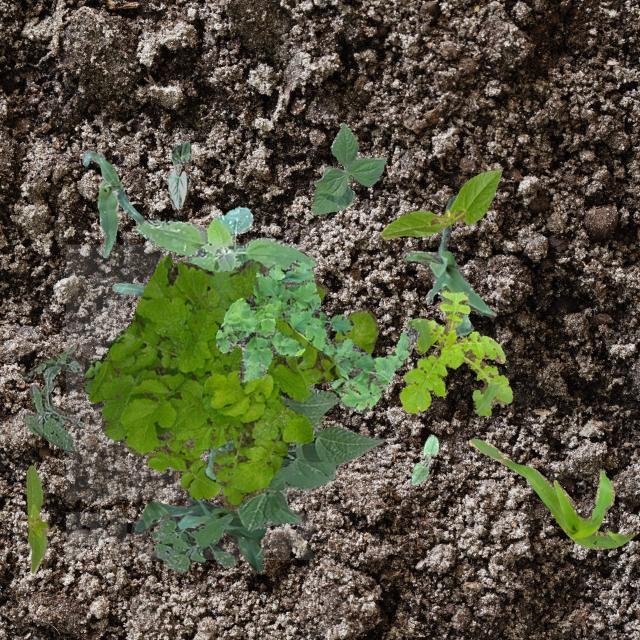crop: (210, 382, 382, 530), (468, 438, 634, 548), (400, 194, 492, 336), (134, 496, 266, 570), (380, 168, 500, 238), (310, 122, 386, 214), (80, 148, 144, 256), (24, 464, 48, 572), (167, 140, 190, 208), (409, 434, 436, 484), (110, 282, 146, 296), (204, 448, 218, 482)
weed: (89, 256, 378, 508), (214, 259, 418, 412), (398, 290, 512, 414), (136, 206, 314, 272), (22, 342, 84, 450), (152, 512, 235, 572), (146, 436, 220, 498), (80, 329, 124, 394)
